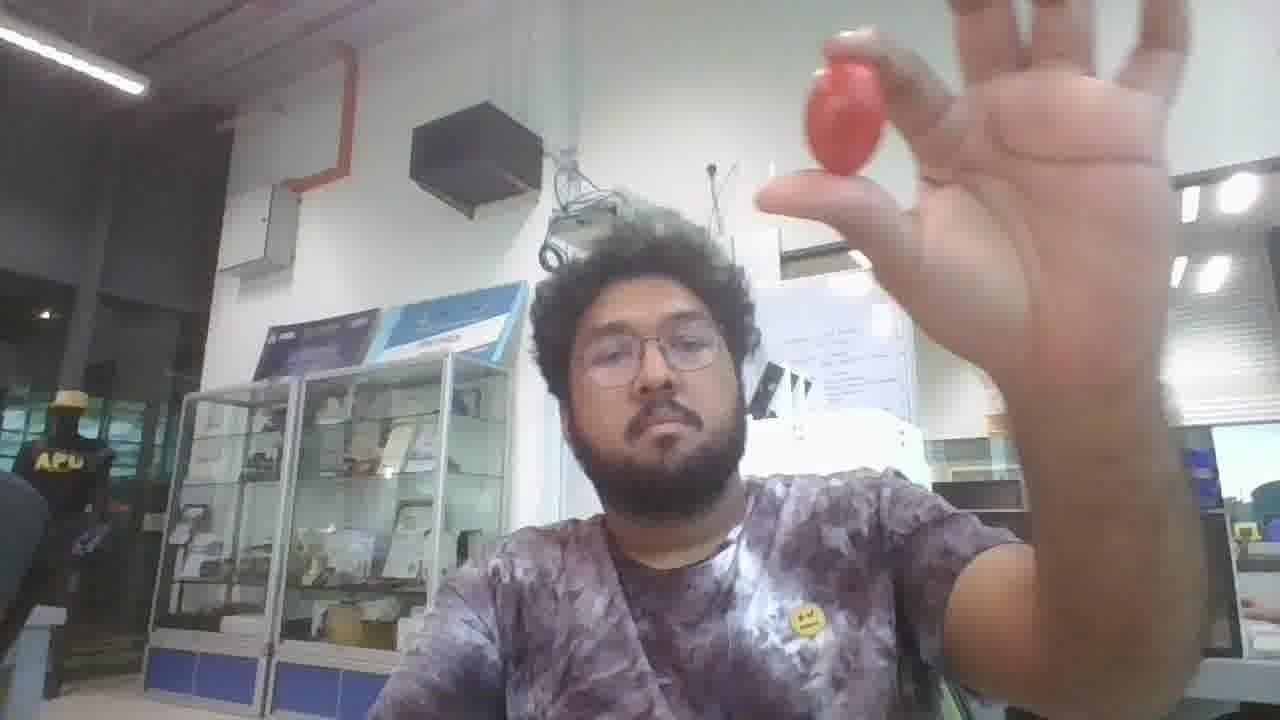red_cherry_tomato: (804, 60, 885, 175)
